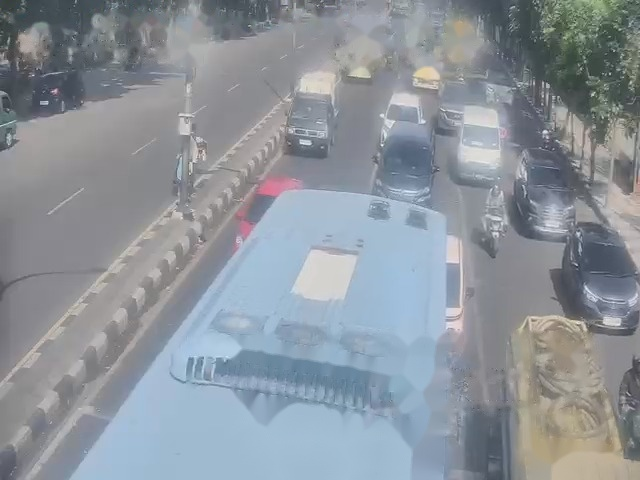Bis: (65, 189, 452, 479)
Mobil: (560, 218, 639, 333), (370, 117, 437, 218), (513, 150, 575, 237), (234, 177, 303, 250), (284, 73, 338, 157), (455, 104, 503, 185), (380, 92, 425, 145), (437, 81, 469, 132), (484, 67, 515, 106)
Motor: (485, 214, 504, 257)
Truk: (499, 315, 639, 479), (413, 66, 440, 90)
